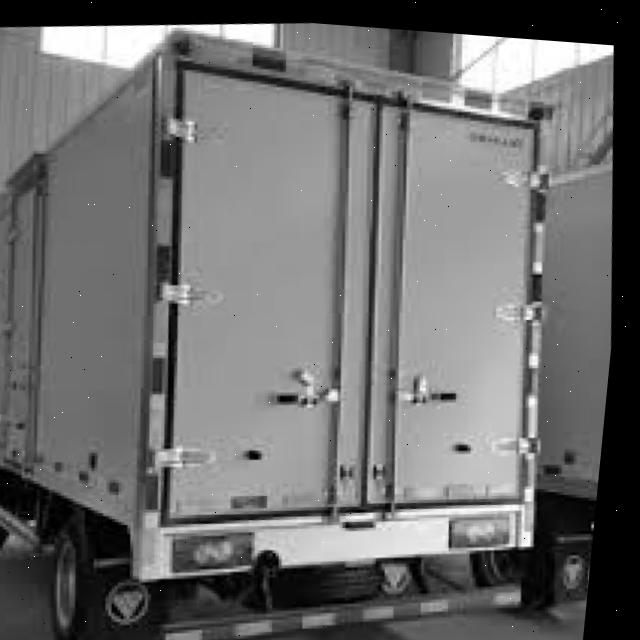truck: (1, 1, 624, 640)
